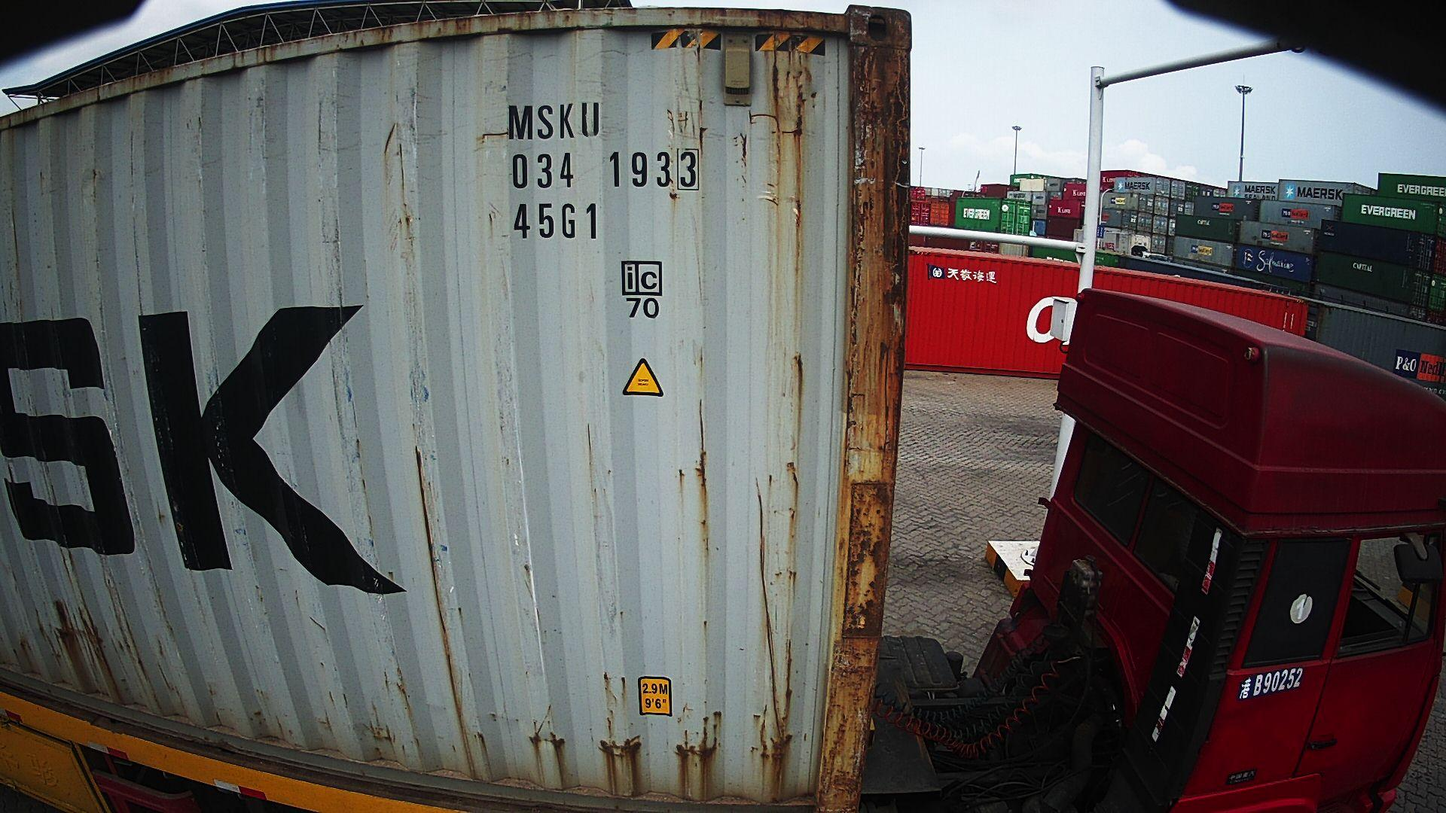container-numbers: (506, 148, 704, 194), (504, 98, 604, 142), (511, 199, 605, 244)
